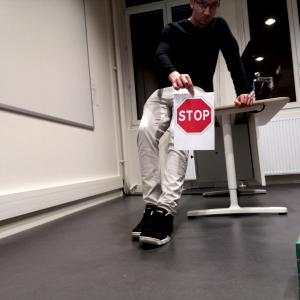stop: (174, 97, 213, 135)
